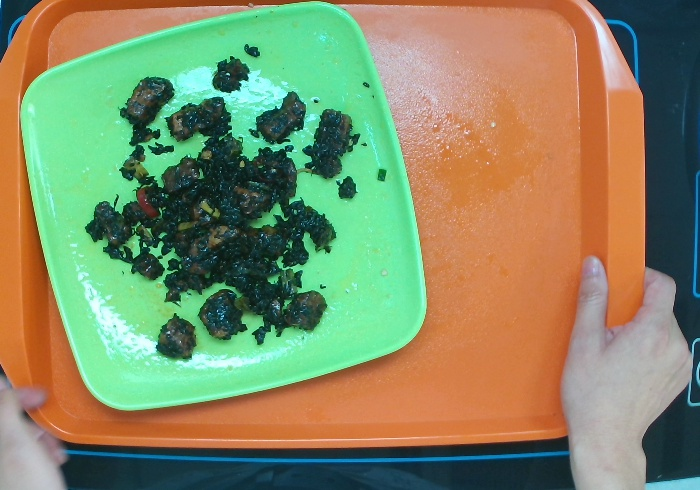ZNLD-Lv_Fang_Pan: (19, 2, 426, 417)
